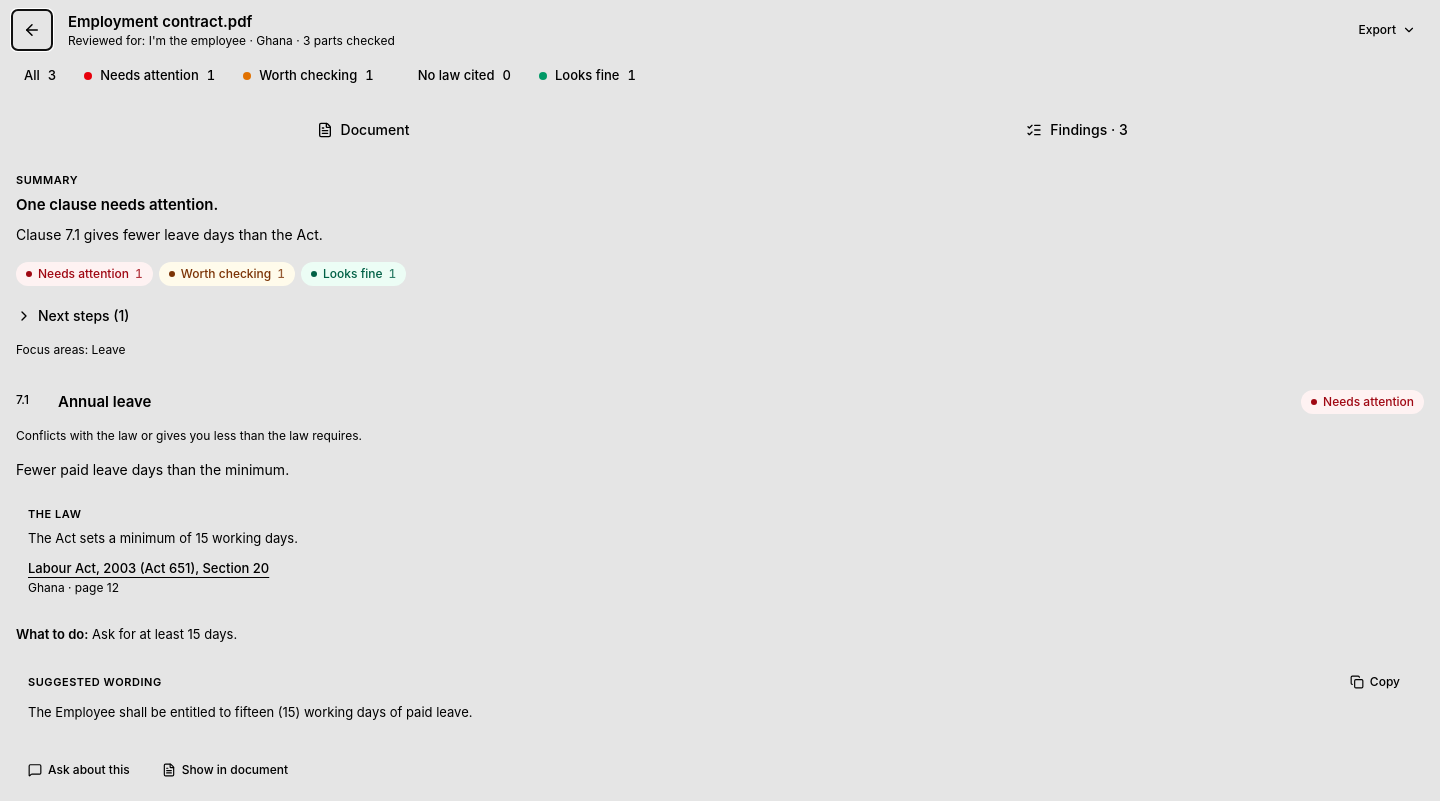
Test: side-by-side review › filters findings and lists what is missing separately
Expected: the button "No law cited 0" is disabled, [390,58,523,94]
Click the button "Worth checking 1".
click(308, 76)  # box [231,58,386,94]
(page scrolled)
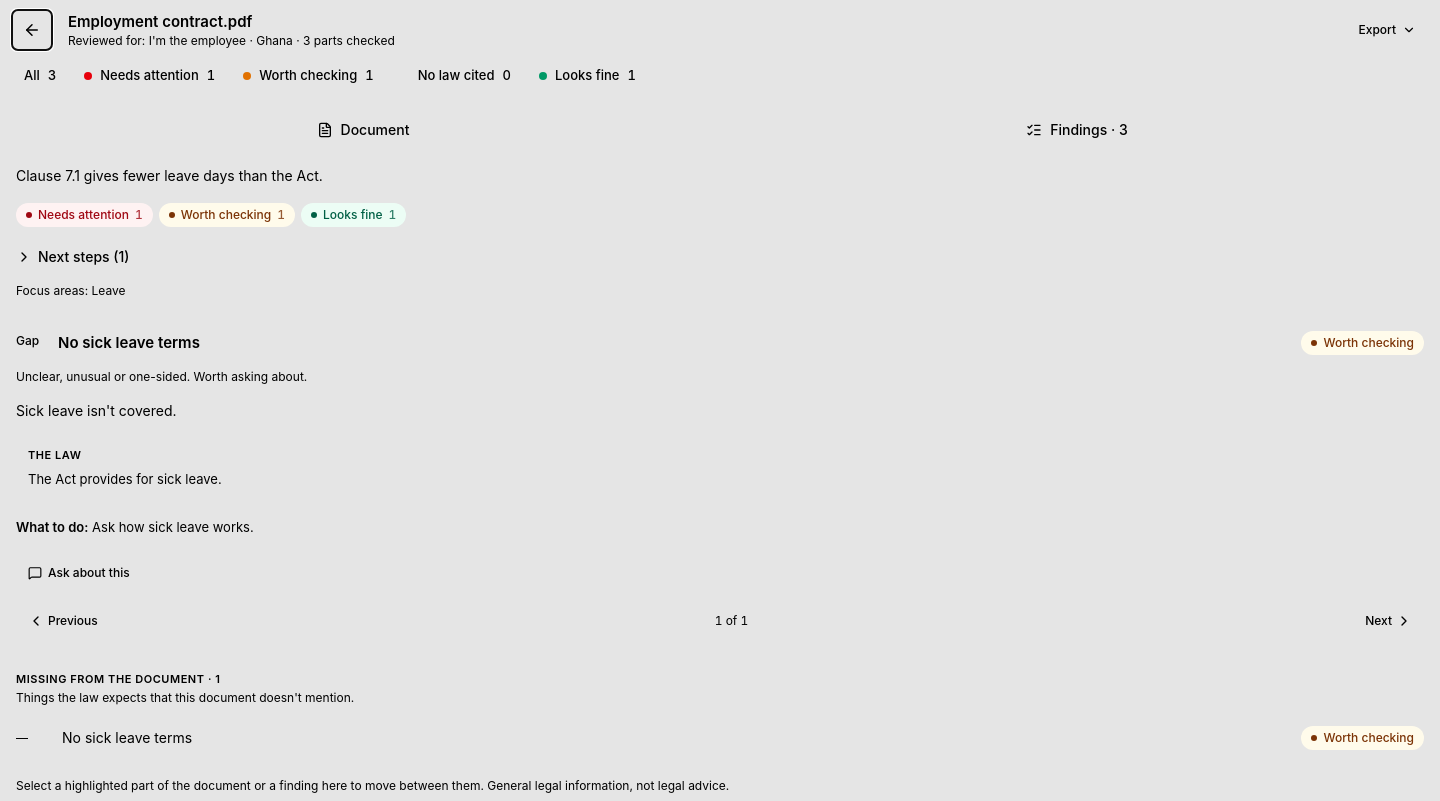
Result: the element named "Finding: No sick leave terms" is shown at [0,314,1439,603]
Result: the element "Missing from the document" is shown at [0,655,1439,762]
